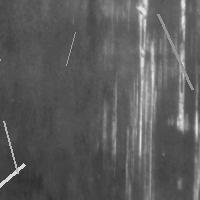scratches: (127, 1, 158, 182), (153, 9, 197, 94), (168, 1, 190, 134), (0, 116, 22, 178), (0, 159, 29, 196), (61, 27, 80, 70), (0, 54, 5, 105)
